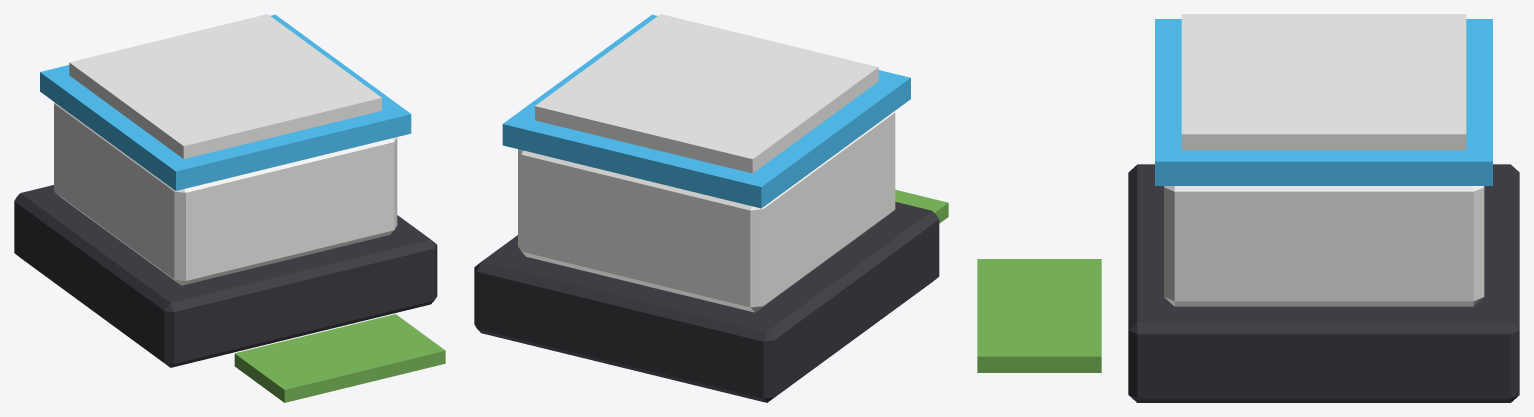
Rendered from DisplayPedestal.fbx.
3 views of the same model, side by side, from view 1: azimuth 30°, elevation 25°; view 2: azimuth 150°, elevation 25°; view 3: azimuth 270°, elevation 25° (orthographic). The views are drawn at different scales.
Parts seen in each view (by area): view 1: DisplayPedestal; view 2: DisplayPedestal; view 3: DisplayPedestal.
Part boxes in pixels (x1,y1,x2,y2): DisplayPedestal: (14,14,445,402); DisplayPedestal: (474,14,948,402); DisplayPedestal: (977,14,1519,402).
Size of the model in its own units: 4.4 by 3.1 by 6.1.
Materials: 1 (1 with a texture image).
